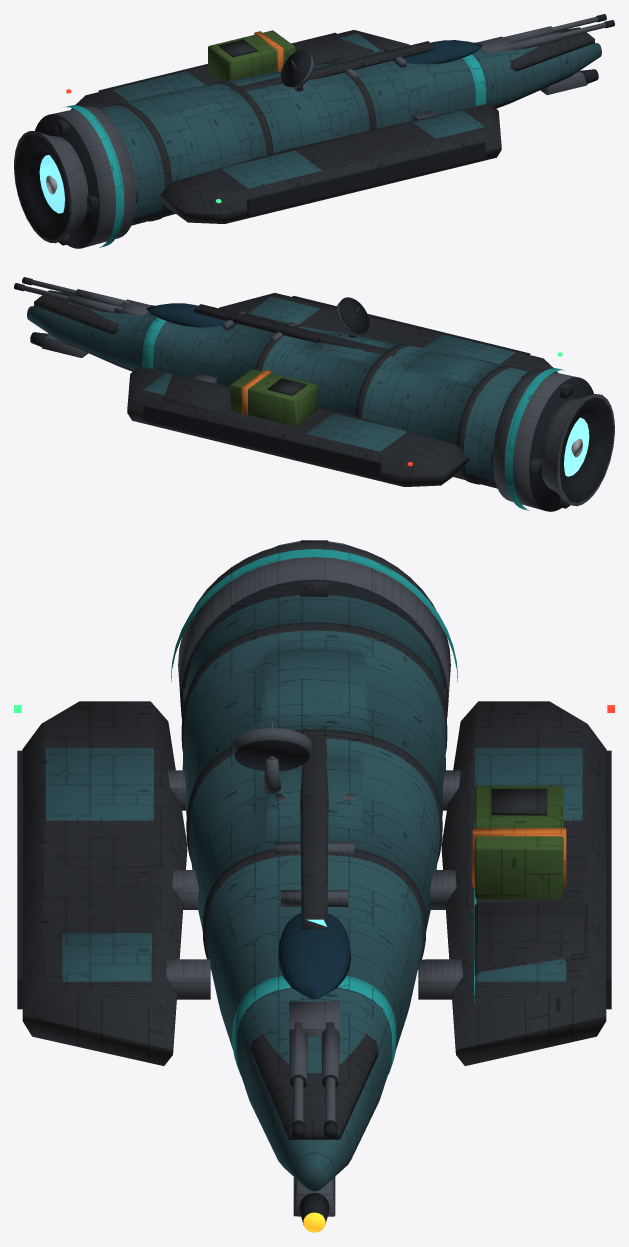
Rendered from kestrel_lod2.glb.
The picture shows the model from 3 angles, top to bottom: view 1: azimuth 30°, elevation 25°; view 2: azimuth 150°, elevation 25°; view 3: azimuth 270°, elevation 25°; orthographic projection. The views are drawn at different scales.
Visible parts, largest first — view 1: LOD2_Hull, LOD2_Armor, LOD2_MechanicalDark, LOD2_Mechanical, LOD2_HOOK_SECONDARY_POD_Hull_green, LOD2_Livery, LOD2_HOOK_ARMOR_PORT_Armor, LOD2_CANOPY, LOD2_HOOK_DRIVE_CORE, LOD2_MOTION_KESTREL_DISH_STEM_HOOK_SENSOR_DISH_MechanicalDar, LOD2_HOOK_SECONDARY_POD_Armor; view 2: LOD2_Hull, LOD2_Armor, LOD2_MechanicalDark, LOD2_Mechanical, LOD2_HOOK_SECONDARY_POD_Hull_green, LOD2_Livery, LOD2_HOOK_ARMOR_PORT_Armor, LOD2_CANOPY, LOD2_HOOK_DRIVE_CORE, LOD2_MOTION_KESTREL_DISH_STEM_HOOK_SENSOR_DISH_MechanicalDar, LOD2_HOOK_SECONDARY_POD_Armor, LOD2_HOOK_SECONDARY_POD_Warning; view 3: LOD2_Hull, LOD2_Armor, LOD2_Mechanical, LOD2_HOOK_SECONDARY_POD_Hull_green, LOD2_HOOK_ARMOR_PORT_Armor, LOD2_MechanicalDark, LOD2_Livery, LOD2_CANOPY, LOD2_MOTION_KESTREL_DISH_STEM_HOOK_SENSOR_DISH_MechanicalDar, LOD2_HOOK_SECONDARY_POD_Armor, LOD2_HOOK_SECONDARY_POD_Warning, LOD2_MOTION_KESTREL_DISH_STEM_HOOK_SENSOR_DISH_Mechanical.
Part boxes in pixels (x1,y1,x2,y2): LOD2_Hull: (99, 33, 601, 218); LOD2_Armor: (56, 27, 594, 245); LOD2_MechanicalDark: (15, 14, 614, 248); LOD2_Mechanical: (14, 16, 606, 247); LOD2_HOOK_SECONDARY_POD_Hull_green: (208, 30, 295, 80); LOD2_Livery: (64, 47, 486, 247); LOD2_HOOK_ARMOR_PORT_Armor: (291, 34, 374, 65); LOD2_CANOPY: (403, 40, 482, 64); LOD2_HOOK_DRIVE_CORE: (39, 155, 64, 213); LOD2_MOTION_KESTREL_DISH_STEM_HOOK_SENSOR_DISH_MechanicalDar: (281, 50, 311, 86); LOD2_HOOK_SECONDARY_POD_Armor: (219, 39, 257, 57); LOD2_Hull: (27, 296, 529, 480); LOD2_Armor: (33, 290, 572, 508); LOD2_MechanicalDark: (14, 277, 613, 511); LOD2_Mechanical: (22, 279, 614, 510); LOD2_HOOK_SECONDARY_POD_Hull_green: (230, 369, 317, 426); LOD2_Livery: (142, 317, 564, 510); LOD2_HOOK_ARMOR_PORT_Armor: (163, 373, 230, 412); LOD2_CANOPY: (146, 303, 225, 327); LOD2_HOOK_DRIVE_CORE: (564, 417, 589, 476); LOD2_MOTION_KESTREL_DISH_STEM_HOOK_SENSOR_DISH_MechanicalDar: (339, 297, 369, 333); LOD2_HOOK_SECONDARY_POD_Armor: (267, 378, 306, 395); LOD2_HOOK_SECONDARY_POD_Warning: (241, 370, 270, 415); LOD2_Hull: (46, 595, 582, 1191); LOD2_Armor: (22, 540, 606, 1173); LOD2_Mechanical: (166, 541, 462, 1216); LOD2_HOOK_SECONDARY_POD_Hull_green: (474, 785, 563, 898); LOD2_HOOK_ARMOR_PORT_Armor: (474, 903, 587, 975); LOD2_MechanicalDark: (17, 579, 611, 1139); LOD2_Livery: (171, 549, 476, 1075); LOD2_CANOPY: (277, 913, 351, 998); LOD2_MOTION_KESTREL_DISH_STEM_HOOK_SENSOR_DISH_MechanicalDar: (234, 740, 309, 770); LOD2_HOOK_SECONDARY_POD_Armor: (491, 788, 547, 815); LOD2_HOOK_SECONDARY_POD_Warning: (472, 828, 566, 887); LOD2_MOTION_KESTREL_DISH_STEM_HOOK_SENSOR_DISH_Mechanical: (232, 722, 312, 759).
Size of what is drawn, in the model's own units: 27.52 by 6.82 by 12.76.
14 materials, 8 textured.
